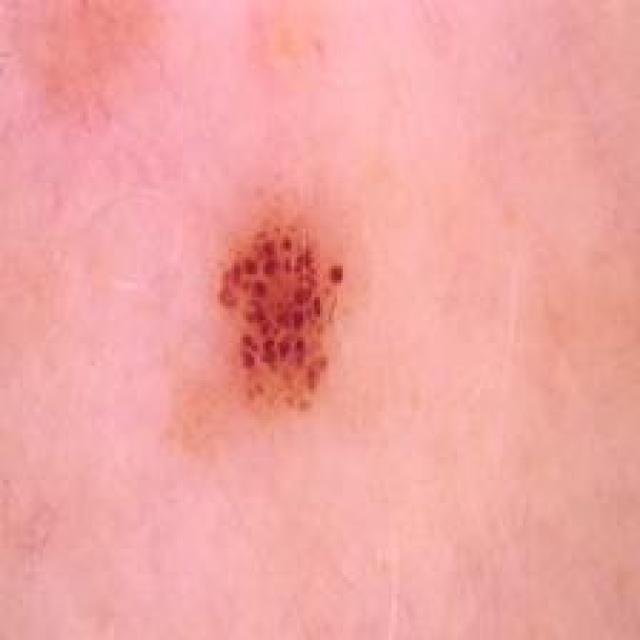Cancer: (214, 214, 346, 414)
